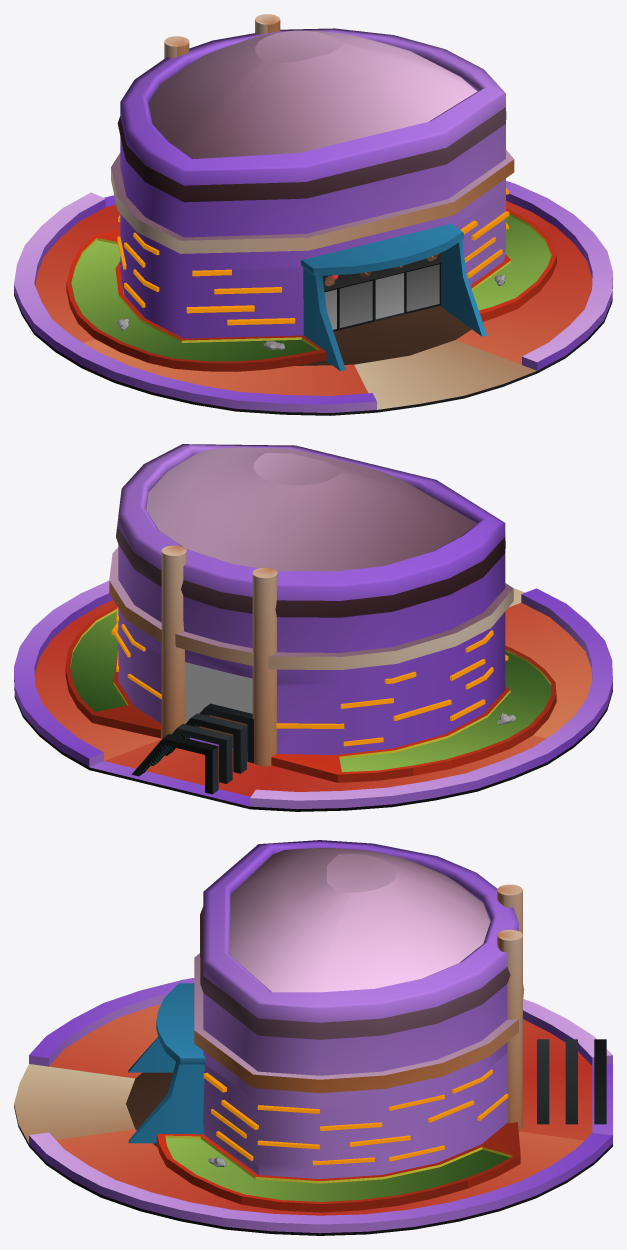
The model's file is Spawn_Ext.glb.
The picture shows the model from 3 angles, top to bottom: view 1: azimuth 30°, elevation 25°; view 2: azimuth 150°, elevation 25°; view 3: azimuth 270°, elevation 25°; orthographic projection. The views are drawn at different scales.
Parts seen in each view (by area): view 1: Spawn_Ext; view 2: Spawn_Ext; view 3: Spawn_Ext.
Boxes of the visible parts, x1,y1,x2,y2 form: Spawn_Ext: (14,14,612,415); Spawn_Ext: (14,444,612,811); Spawn_Ext: (14,840,612,1235).
Size of the model in its own units: 46.08 by 19.39 by 45.1.
Materials: 3 (2 with a texture image).
